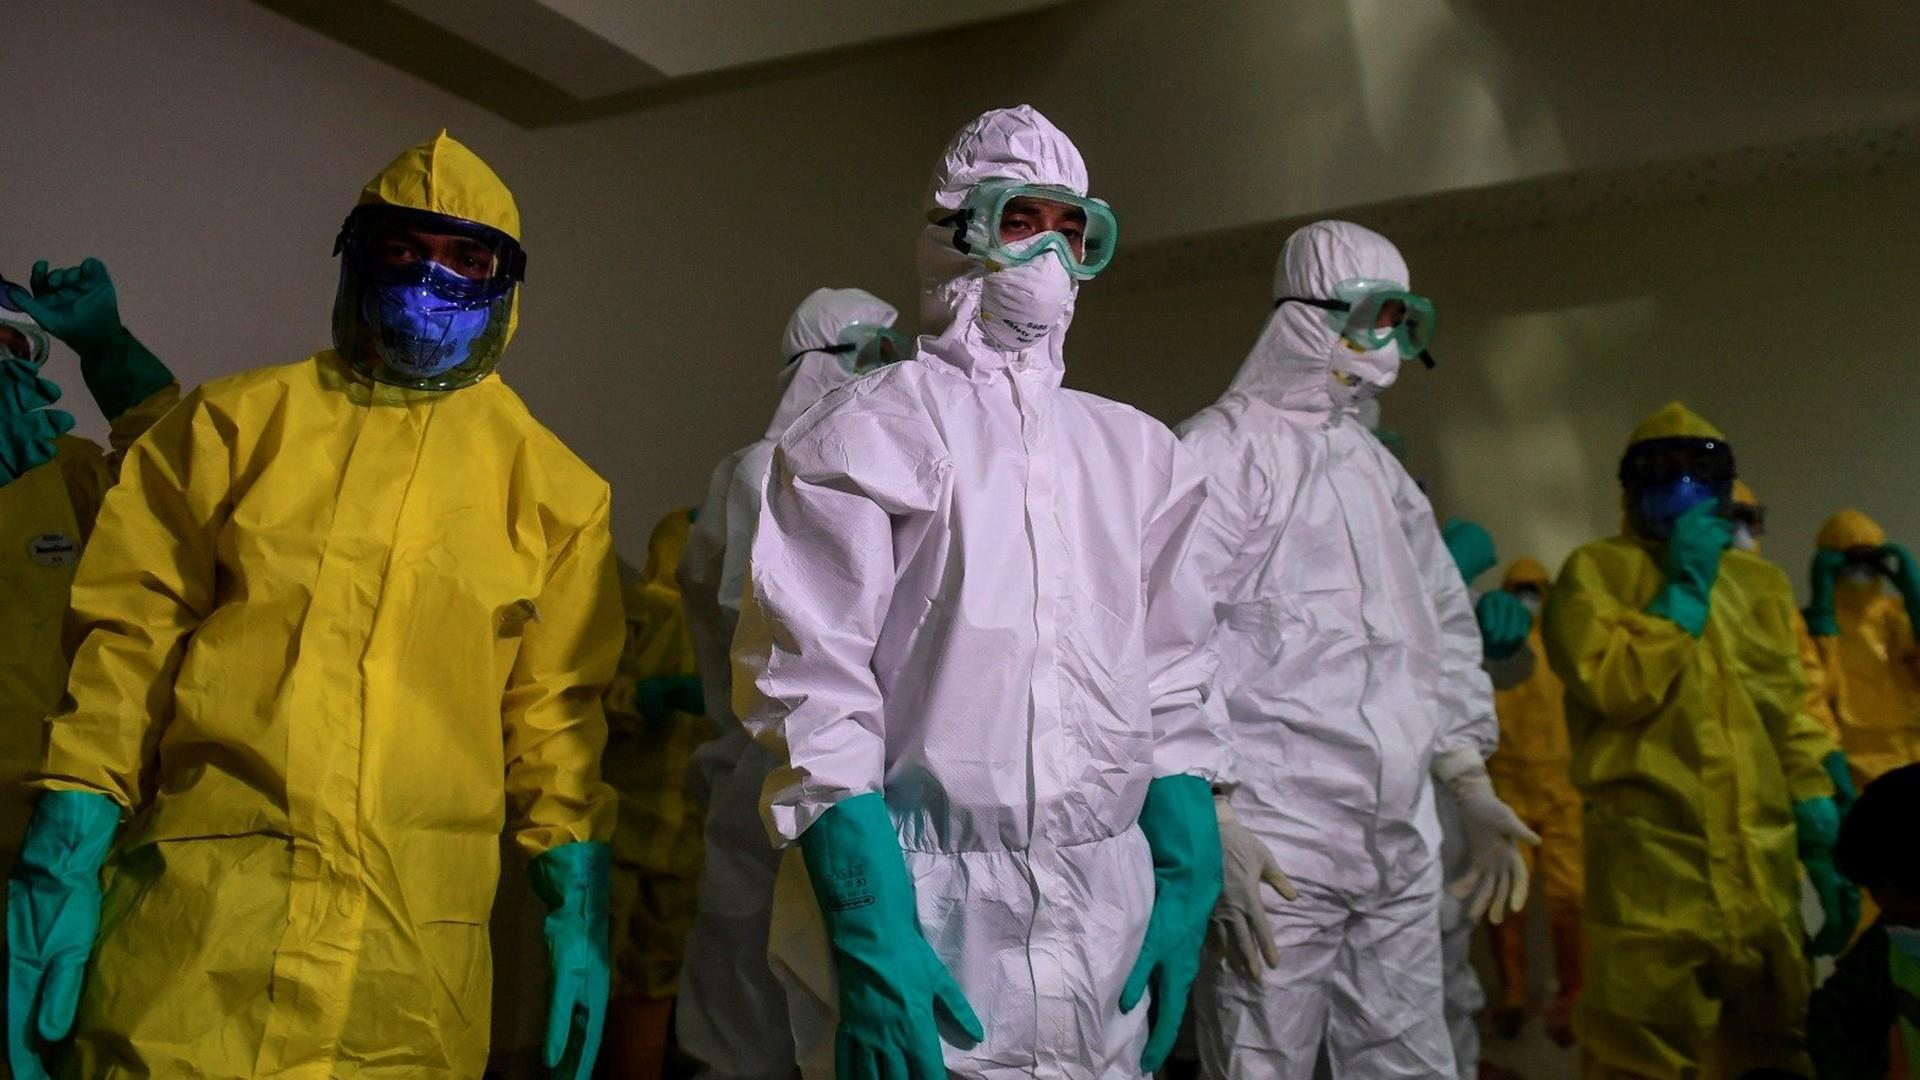Coverall: (52, 124, 643, 1080), (754, 104, 1223, 1080), (1168, 215, 1497, 1080), (1548, 391, 1819, 1051)
Gloves: (789, 796, 995, 1080), (1114, 764, 1241, 1080), (1, 781, 129, 1080), (16, 238, 179, 426), (525, 826, 636, 1080), (1648, 494, 1743, 637), (1470, 591, 1548, 668), (1441, 511, 1501, 588)
Goggles: (309, 199, 550, 305), (941, 170, 1138, 283), (1298, 276, 1456, 351), (811, 300, 911, 385)
with_mask: (970, 174, 1088, 356), (360, 231, 488, 374), (1346, 281, 1407, 392)
